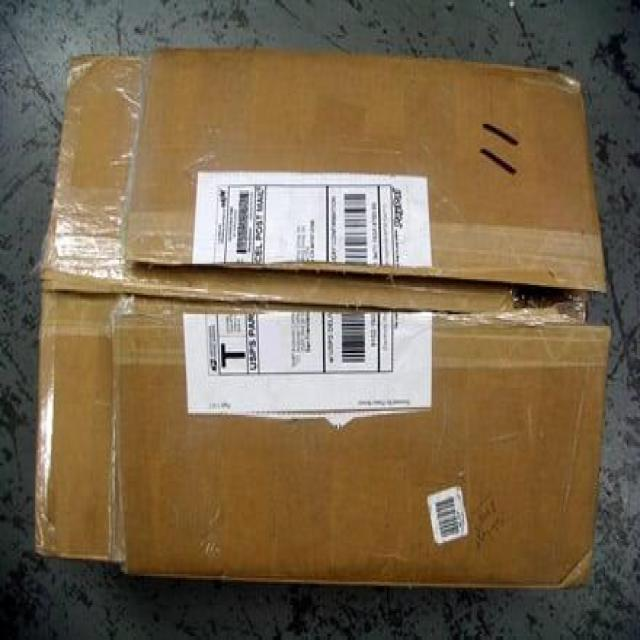cardboard: (32, 46, 612, 592)
